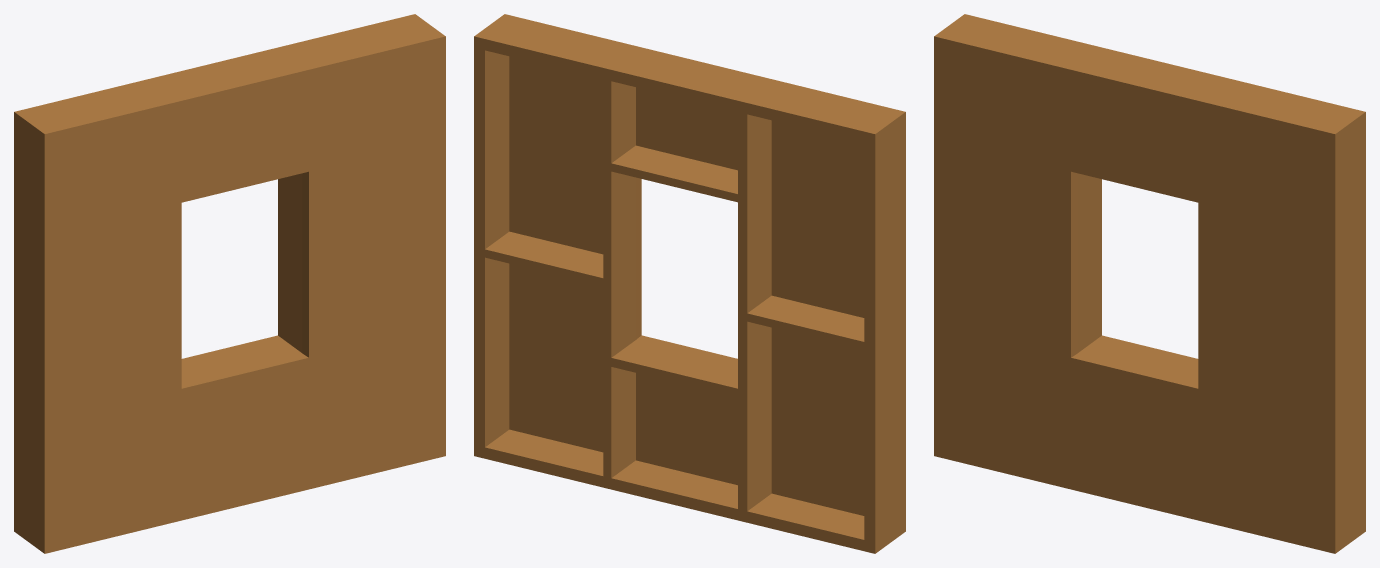
The picture shows the model from 3 angles, left to right: view 1: azimuth 30°, elevation 25°; view 2: azimuth 150°, elevation 25°; view 3: azimuth 330°, elevation 25°; orthographic projection.
Parts seen in each view (by area): view 1: I-4; view 2: I-4; view 3: I-4.
Boxes of the visible parts, x1,y1,x2,y2 form: I-4: (14, 14, 445, 553); I-4: (474, 14, 905, 553); I-4: (934, 14, 1365, 553).
Size of the model in its own units: 612 by 612 by 80.81.
